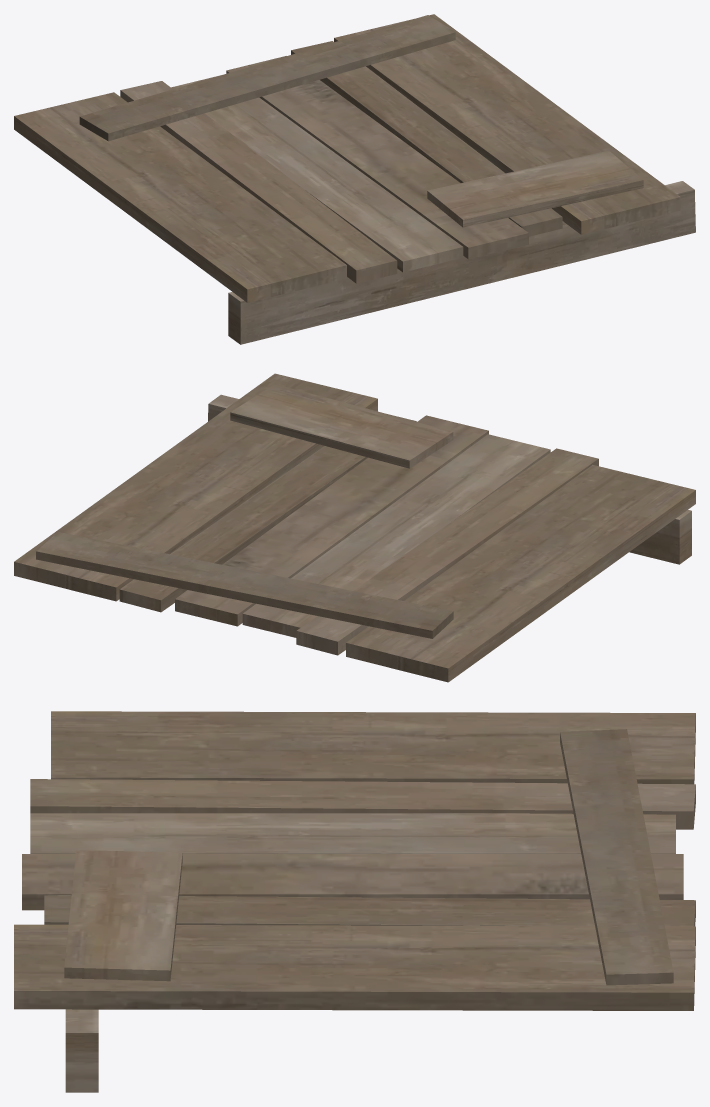
3 renders of one model, top to bottom at view 1: azimuth 30°, elevation 25°; view 2: azimuth 150°, elevation 25°; view 3: azimuth 270°, elevation 25°, orthographic. The views are drawn at different scales.
Parts seen in each view (by area): view 1: body0_model0_lod0_mesh0; view 2: body0_model0_lod0_mesh0; view 3: body0_model0_lod0_mesh0.
Part boxes in pixels (x1=…): body0_model0_lod0_mesh0: x1=14, y1=14, x2=695, y2=344; body0_model0_lod0_mesh0: x1=14, y1=373, x2=695, y2=682; body0_model0_lod0_mesh0: x1=14, y1=711, x2=695, y2=1092.
Bounding box in the file's own units: 124 × 17.38 × 118.
1 material, 1 textured.
